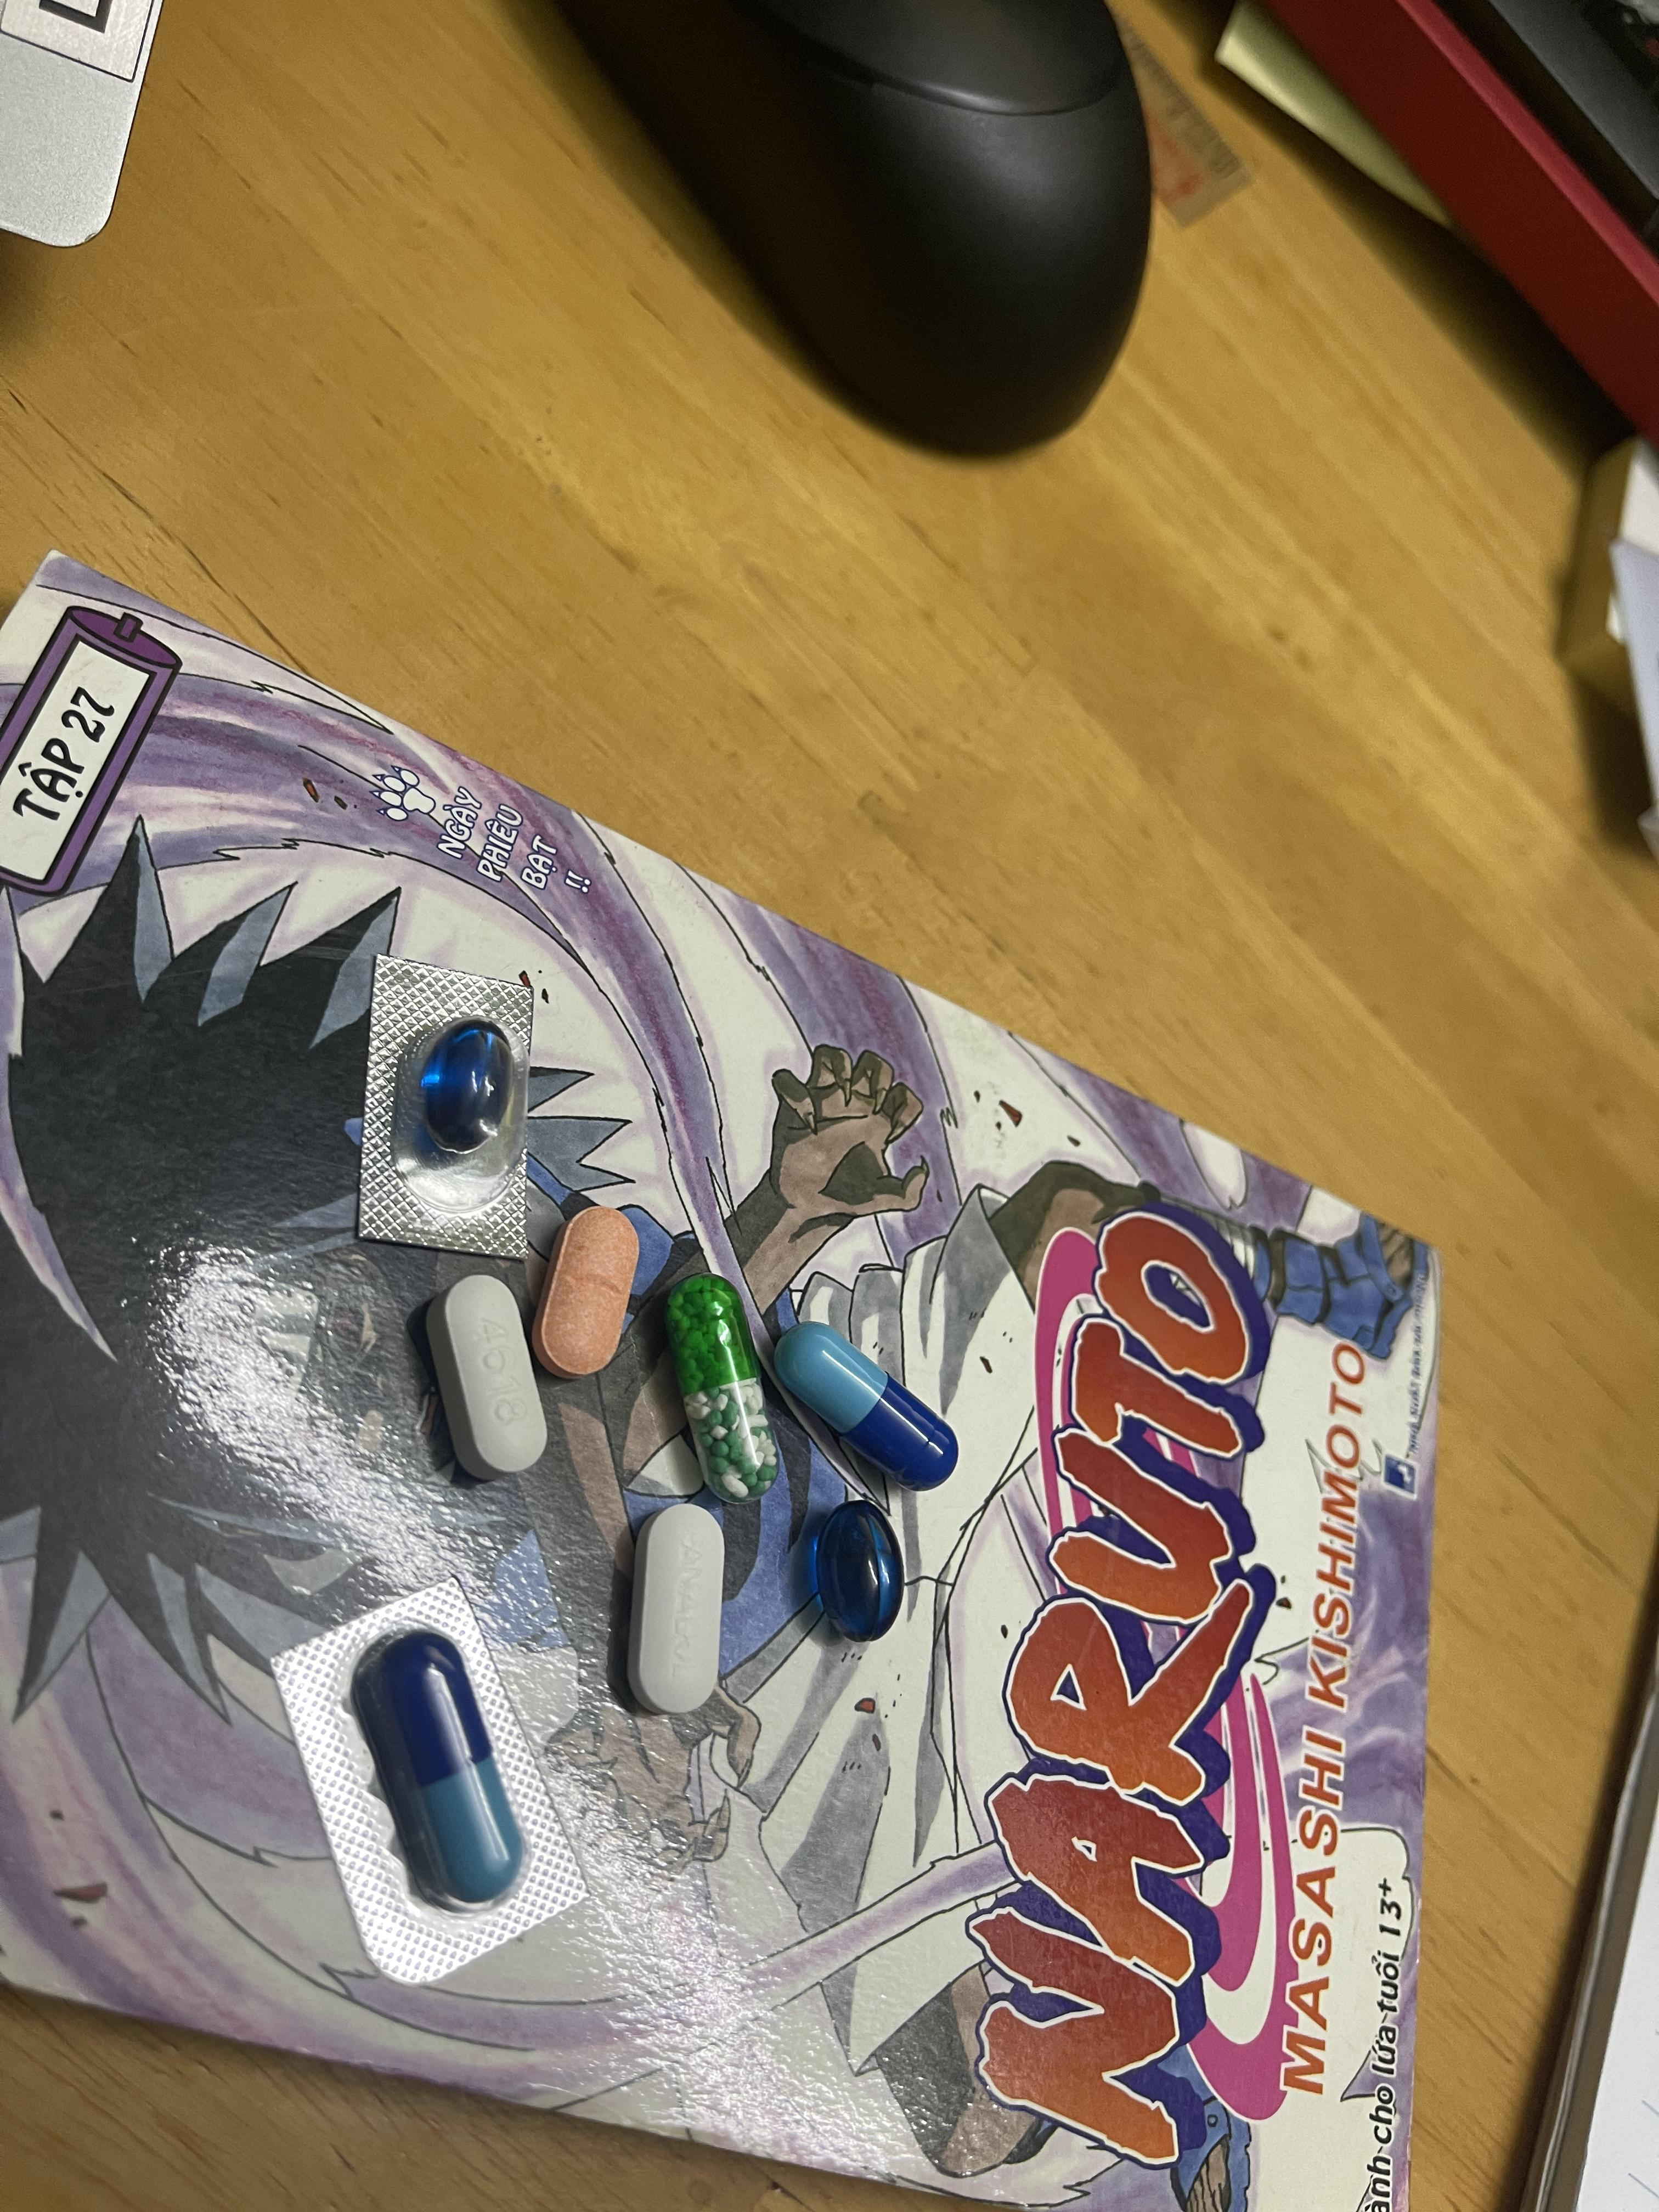Lincomyxin_500mg: (816, 1505, 903, 1641), (418, 1022, 509, 1153)
Loratadine_10mg: (535, 1205, 641, 1374)
Paracetamol_350mg: (629, 1501, 727, 1716)
Paracetamol_500mg: (425, 1275, 549, 1482)
Paracetamol_650mg: (666, 1277, 777, 1496)
pill: (357, 1634, 525, 1914), (777, 1324, 955, 1487)
